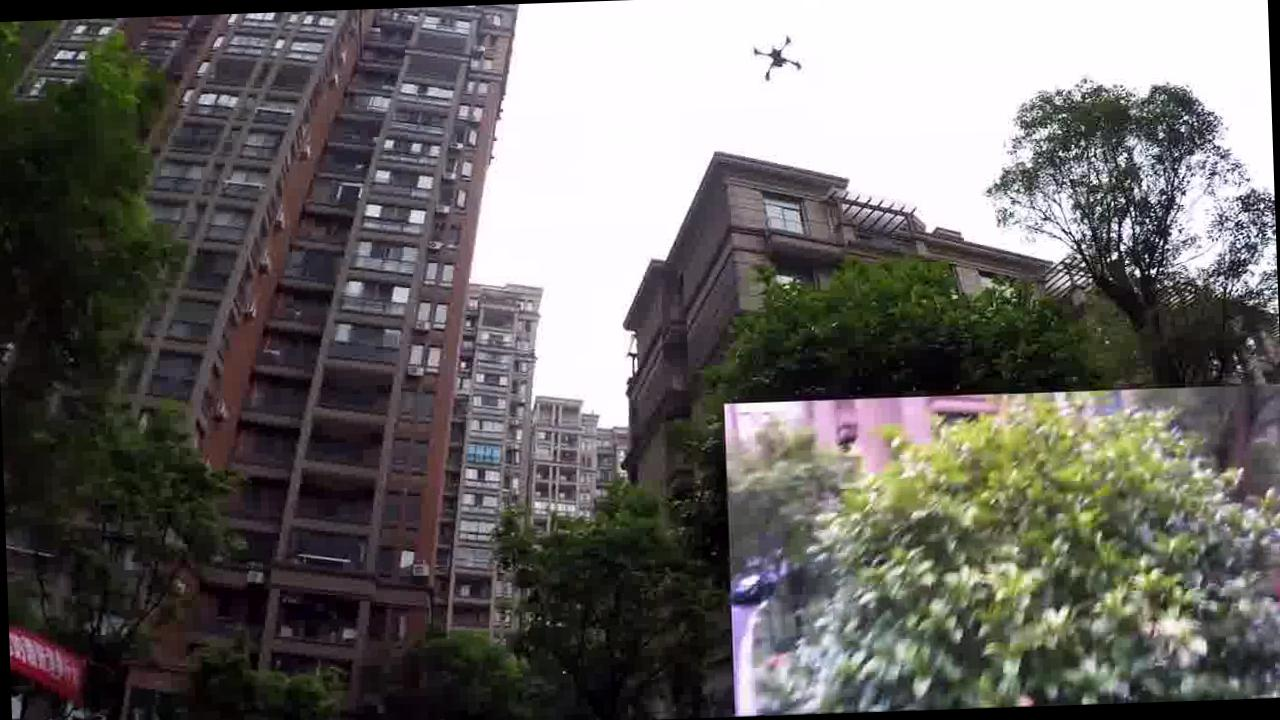drone: (742, 13, 809, 76)
